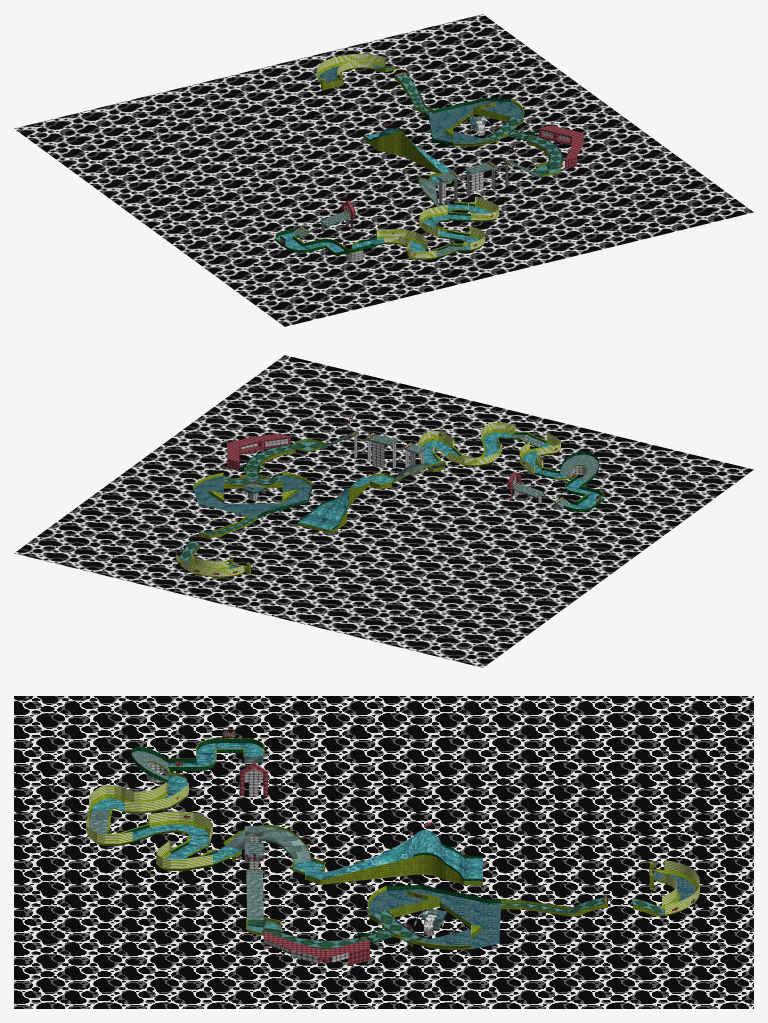
The picture shows the model from 3 angles, top to bottom: view 1: azimuth 30°, elevation 25°; view 2: azimuth 150°, elevation 25°; view 3: azimuth 270°, elevation 25°; orthographic projection. The views are drawn at different scales.
Parts seen in each view (by area): view 1: course-SKP--Zwater.001, course-SKP--qparedboth, wall_0d_F000d, course-SKP--wpisohumedo, course-SKP--pisogr, course-SKP--muromovibleboth, course-SKP--pisograva, course-SKP--Apissboth, course-SKP--zcascadaboth.001, course-SKP--qpmoradoboth; view 2: course-SKP--Zwater.001, course-SKP--qparedboth, course-SKP--wpisohumedo, wall_0d_F000d, course-SKP--pisogr, course-SKP--Apissboth, course-SKP--pisograva, course-SKP--zcascadaboth.001, course-SKP--muromovibleboth, course-SKP--qpmoradoboth; view 3: course-SKP--Zwater.001, course-SKP--qparedboth, course-SKP--wpisohumedo, wall_0d_F000d, course-SKP--pisogr, course-SKP--Apissboth, course-SKP--pisograva, course-SKP--muromovibleboth, course-SKP--qpmoradoboth, course-SKP--zcascadaboth.001.
Boxes of the visible parts, x1,y1,x2,y2 form: course-SKP--Zwater.001: (14,14,753,326); course-SKP--qparedboth: (275,61,563,260); wall_0d_F000d: (317,54,499,258); course-SKP--wpisohumedo: (276,128,491,252); course-SKP--pisogr: (319,64,523,143); course-SKP--muromovibleboth: (276,98,536,258); course-SKP--pisograva: (377,65,563,176); course-SKP--Apissboth: (293,72,542,256); course-SKP--zcascadaboth.001: (321,117,569,261); course-SKP--qpmoradoboth: (342,104,583,252); course-SKP--Zwater.001: (14,355,753,667); course-SKP--qparedboth: (178,429,604,577); course-SKP--wpisohumedo: (298,432,602,530); wall_0d_F000d: (176,422,560,576); course-SKP--pisogr: (180,475,311,570); course-SKP--Apissboth: (229,431,598,563); course-SKP--pisograva: (179,440,325,560); course-SKP--zcascadaboth.001: (240,434,586,503); course-SKP--muromovibleboth: (239,432,603,530); course-SKP--qpmoradoboth: (174,416,575,575); course-SKP--Zwater.001: (14,696,753,1008); course-SKP--qparedboth: (87,738,698,950); course-SKP--wpisohumedo: (91,743,482,880); wall_0d_F000d: (86,782,699,914); course-SKP--pisogr: (368,870,696,948); course-SKP--Apissboth: (89,751,440,941); course-SKP--pisograva: (247,897,663,948); course-SKP--muromovibleboth: (89,738,500,945); course-SKP--qpmoradoboth: (86,761,700,965); course-SKP--zcascadaboth.001: (146,762,443,963).
Bounding box in the file's own units: 155757 × 12353 × 155757.
12 materials, 12 textured.
